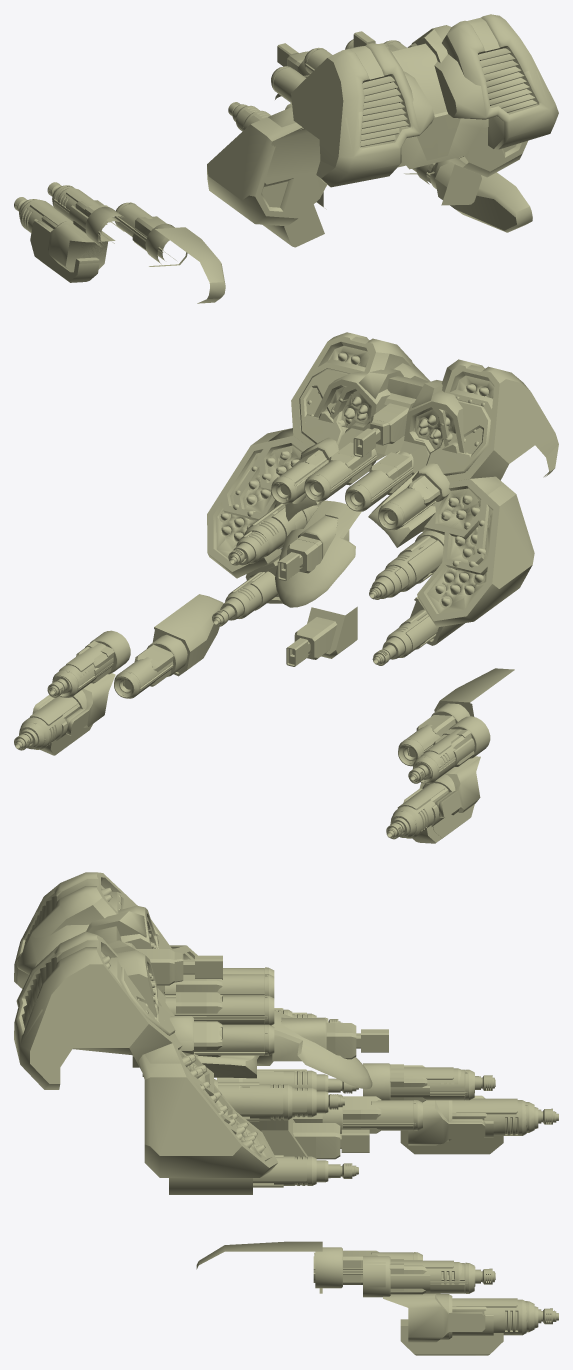
File: AnnihilatorWeapons.glb
3 renders of one model, top to bottom at view 1: azimuth 30°, elevation 25°; view 2: azimuth 150°, elevation 25°; view 3: azimuth 270°, elevation 25°, orthographic. The views are drawn at different scales.
Parts seen in each view (by area): view 1: Torso_Left_MH1_Missile20, Torso_Right_MH1_Missile20, Torso_Left_MH2_Missile12, Torso_Right_MH1_Missile10, Torso_Left_MH1_Missile10, Torso_Left_MH2_Missile10, Forearm_Left_BH1_AC10, Torso_Right_MH1_Missile3, Forearm_Left_EH2_Flamer, Forearm_Left_BH1_AC20, Forearm_Right_EH2_Flamer, Torso_Left_MH1_Missile3 (+15 smaller); view 2: Torso_Left_MH2_Missile12, Torso_Left_MH1_Missile20, Torso_Center_EH1_Flamer, Torso_Right_MH1_Missile20, Forearm_Right_EH2_PPC, Torso_Right_MH2_Missile12, Torso_Left_MH1_Missile10, Torso_Left_EH2_PPC, Torso_Center_EH2_Laser, Torso_Right_MH1_Missile10, Forearm_Right_EH2_Laser, Forearm_Left_BH1_AC20 (+36 smaller); view 3: Torso_Right_MH2_Missile12, Torso_Right_MH1_Missile20, Torso_Right_MH1_Missile10, Torso_Left_MH1_Missile20, Torso_Center_EH1_Flamer, Forearm_Left_BH1_AC20, Forearm_Right_BH1_AC10, Torso_Right_BH2_AC10, Forearm_Right_BH1_AC20, Torso_Right_EH2_PPC, Forearm_Right_EH2_PPC, Torso_Right_BH1_AC20 (+25 smaller).
Boxes of the visible parts, <box> form: Torso_Left_MH1_Missile20: <box>291,43,437,173</box>; Torso_Right_MH1_Missile20: <box>412,14,555,157</box>; Torso_Left_MH2_Missile12: <box>207,124,326,226</box>; Torso_Right_MH1_Missile10: <box>434,54,558,149</box>; Torso_Left_MH1_Missile10: <box>291,71,437,187</box>; Torso_Left_MH2_Missile10: <box>251,117,320,186</box>; Forearm_Left_BH1_AC10: <box>31,221,107,282</box>; Torso_Right_MH1_Missile3: <box>407,25,488,162</box>; Forearm_Left_EH2_Flamer: <box>149,223,225,294</box>; Forearm_Left_BH1_AC20: <box>20,199,108,282</box>; Forearm_Right_EH2_Flamer: <box>430,179,532,232</box>; Torso_Left_MH1_Missile3: <box>342,46,437,169</box>; Torso_Left_MH2_Missile12: <box>417,479,534,627</box>; Torso_Left_MH1_Missile20: <box>400,359,558,480</box>; Torso_Center_EH1_Flamer: <box>275,500,361,607</box>; Torso_Right_MH1_Missile20: <box>292,332,413,454</box>; Forearm_Right_EH2_PPC: <box>114,594,222,698</box>; Torso_Right_MH2_Missile12: <box>207,436,308,578</box>; Torso_Left_MH1_Missile10: <box>398,389,558,481</box>; Torso_Left_EH2_PPC: <box>368,463,450,545</box>; Torso_Center_EH2_Laser: <box>294,606,357,659</box>; Torso_Right_MH1_Missile10: <box>291,359,430,465</box>; Forearm_Right_EH2_Laser: <box>134,602,223,686</box>; Forearm_Left_BH1_AC20: <box>391,774,463,843</box>; Torso_Right_MH2_Missile12: <box>144,1040,278,1177</box>; Torso_Right_MH1_Missile20: <box>14,931,174,1063</box>; Torso_Right_MH1_Missile10: <box>14,957,177,1089</box>; Torso_Left_MH1_Missile20: <box>14,872,164,990</box>; Torso_Center_EH1_Flamer: <box>271,1010,388,1089</box>; Forearm_Left_BH1_AC20: <box>400,1098,526,1154</box>; Forearm_Right_BH1_AC10: <box>400,1306,538,1355</box>; Torso_Right_BH2_AC10: <box>169,1155,328,1194</box>; Forearm_Right_BH1_AC20: <box>383,1294,533,1355</box>; Torso_Right_EH2_PPC: <box>169,1016,274,1077</box>; Forearm_Right_EH2_PPC: <box>196,1241,422,1293</box>; Torso_Right_BH1_AC20: <box>214,1079,296,1121</box>.
Bounding box in the file's own units: 1.43 × 1.04 × 1.5.
